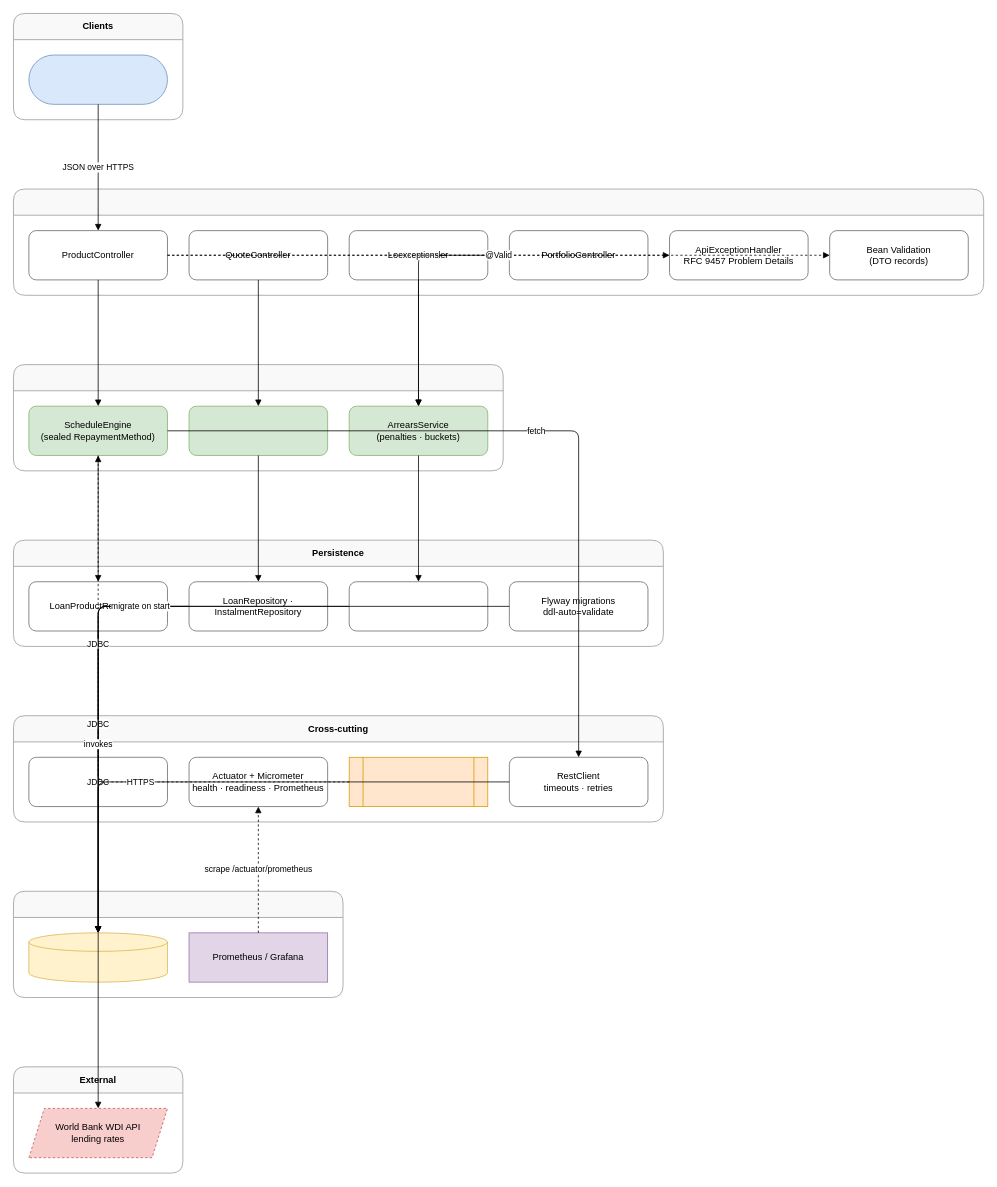
This 997x1187 diagram has some shape labels left out. The shapes that lost their labels are listed below. From the top down, each one's box as (x1, y1, x2, y2) in pixels, then its label:
(28, 54, 167, 104): HTTP clients (apps, partners, ops)
(13, 188, 984, 295): Web layer: Spring MVC
(13, 364, 503, 471): Service layer
(188, 405, 328, 455): LoanService (booking · repayments)
(348, 581, 488, 631): Portfolio queries (SQL)
(28, 757, 167, 807): @ConfigurationProperties (validated)
(348, 757, 488, 807): Scheduler nightly arrears and penalties
(28, 932, 167, 982): PostgreSQL 17
(13, 891, 343, 998): Runtime dependencies
